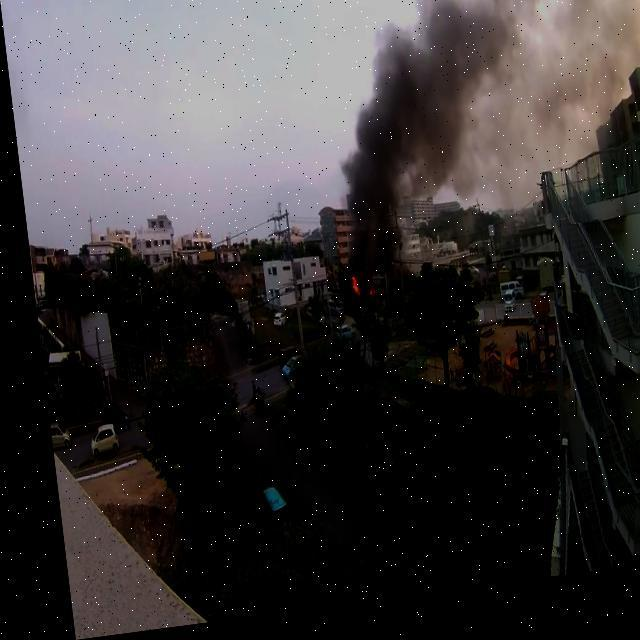Fire: (340, 281, 353, 308)
